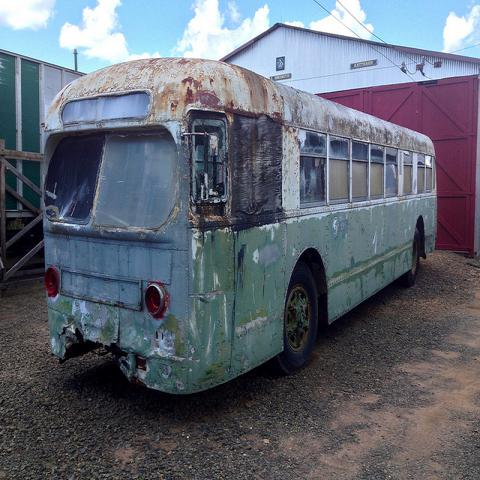bus: (42, 58, 436, 394)
